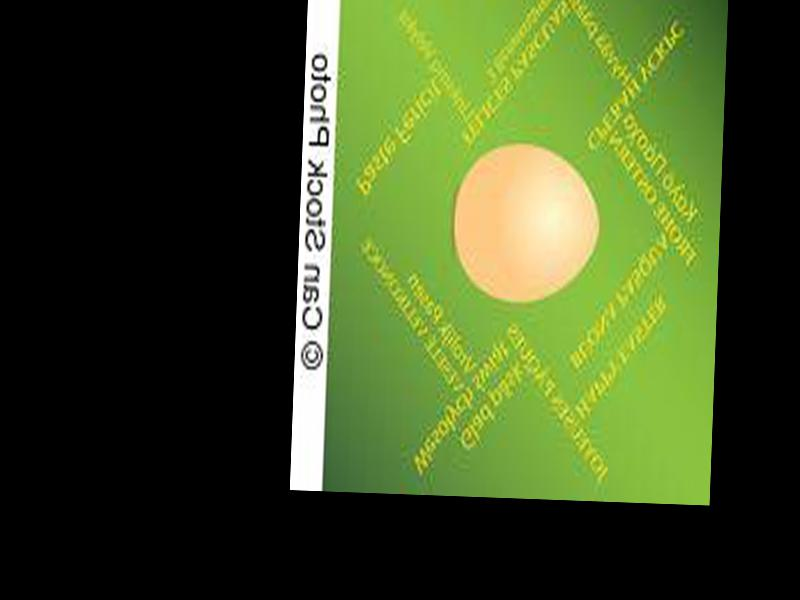Eggs: (451, 144, 601, 304)
